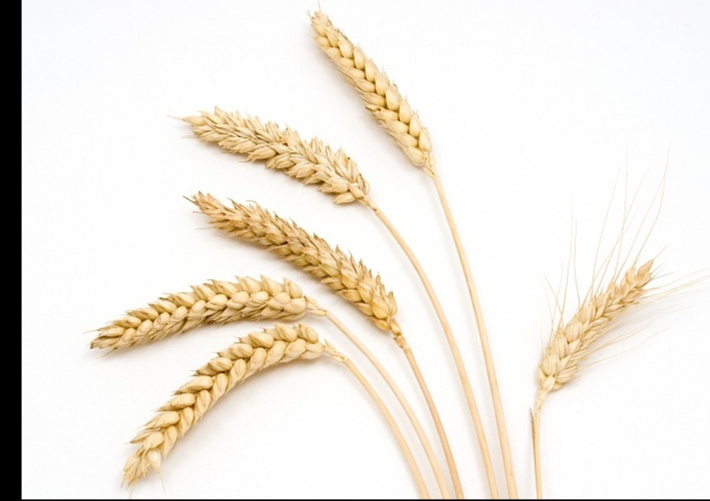wheat: (87, 325, 342, 494), (184, 193, 405, 336), (304, 7, 453, 207), (531, 230, 665, 430), (184, 104, 390, 222), (84, 275, 318, 352)
